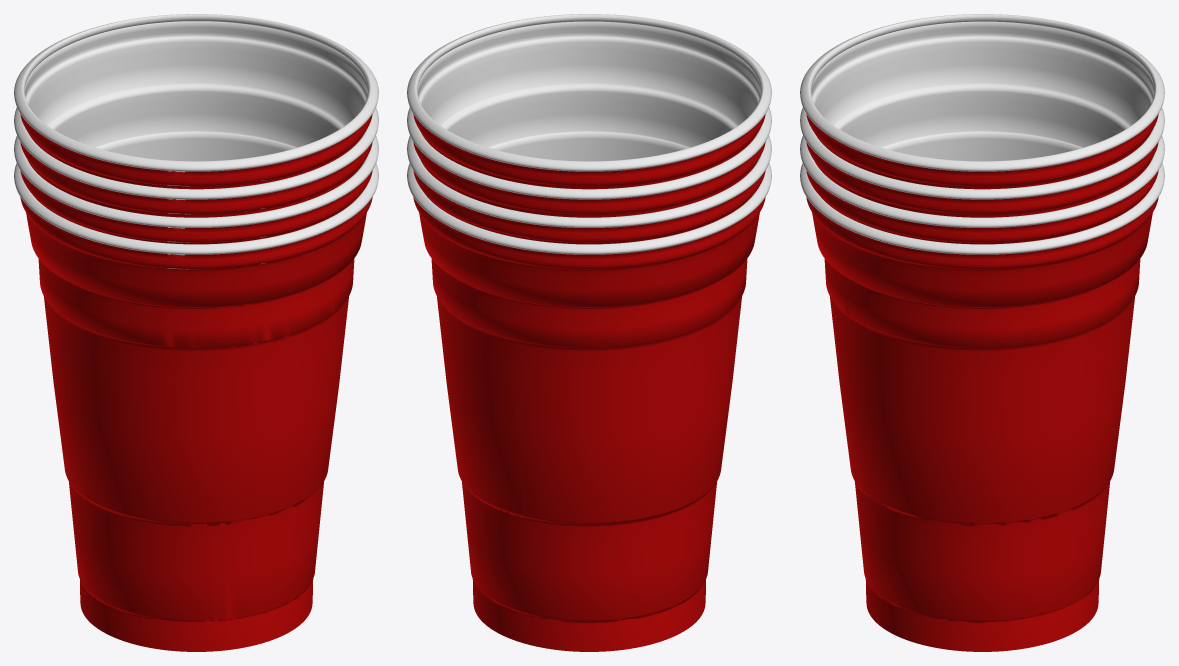
The model's file is cups3.glb.
The picture shows the model from 3 angles, left to right: view 1: azimuth 30°, elevation 25°; view 2: azimuth 150°, elevation 25°; view 3: azimuth 270°, elevation 25°; orthographic projection.
Parts seen in each view (by area): view 1: BottomCup, RedCup_1; view 2: BottomCup, RedCup_1; view 3: BottomCup, RedCup_1.
Boxes of the visible parts, x1,y1,x2,y2 form: BottomCup: (14,163,378,651); RedCup_1: (14,14,378,623); BottomCup: (407,163,771,651); RedCup_1: (407,14,771,618); BottomCup: (800,163,1164,651); RedCup_1: (800,14,1164,244).
Size of the model in its own units: 0.091 by 0.1419 by 0.091.
